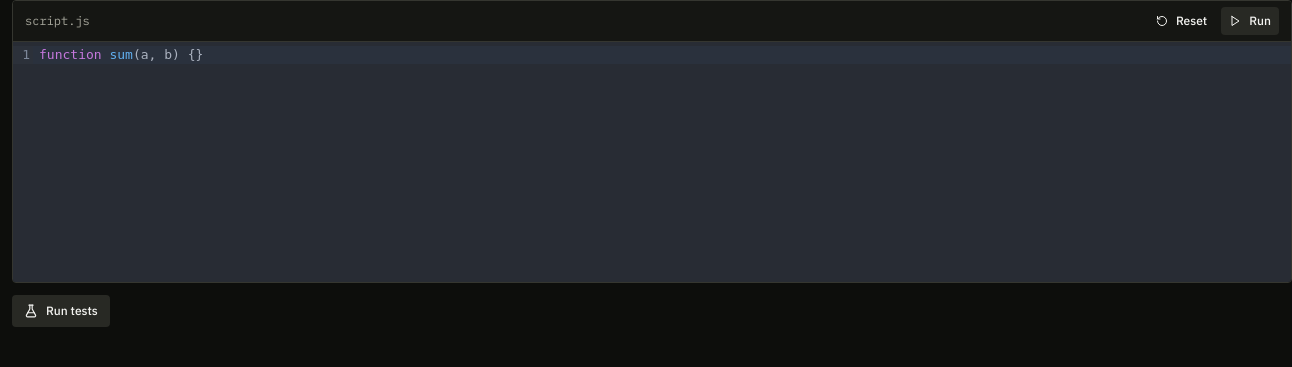
ExerciseEditor: running the exercise's tests › says so where tests can't run
The image size is (1292, 367).
Click the button "Run tests": (61, 311) [12, 295, 110, 327]
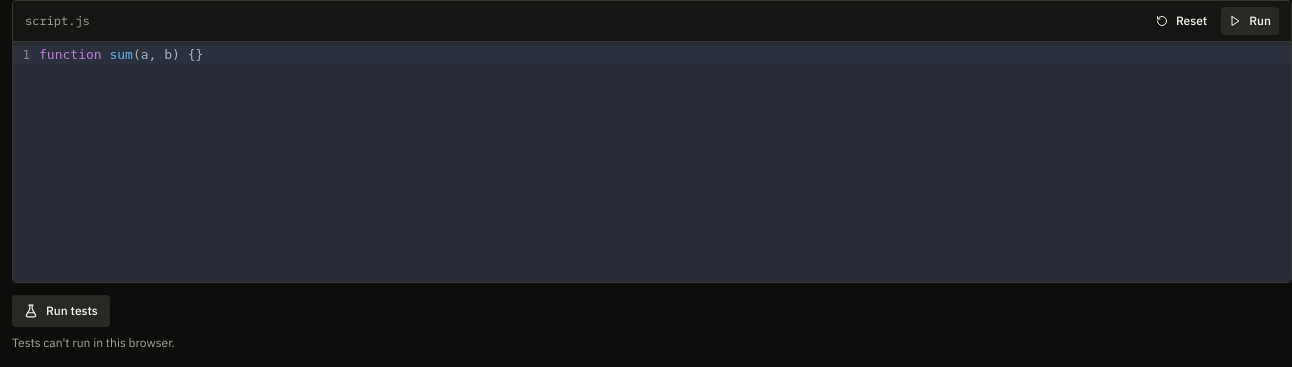
Result: the text "Tests can't run in this browser." is shown at [12, 335, 175, 350]
